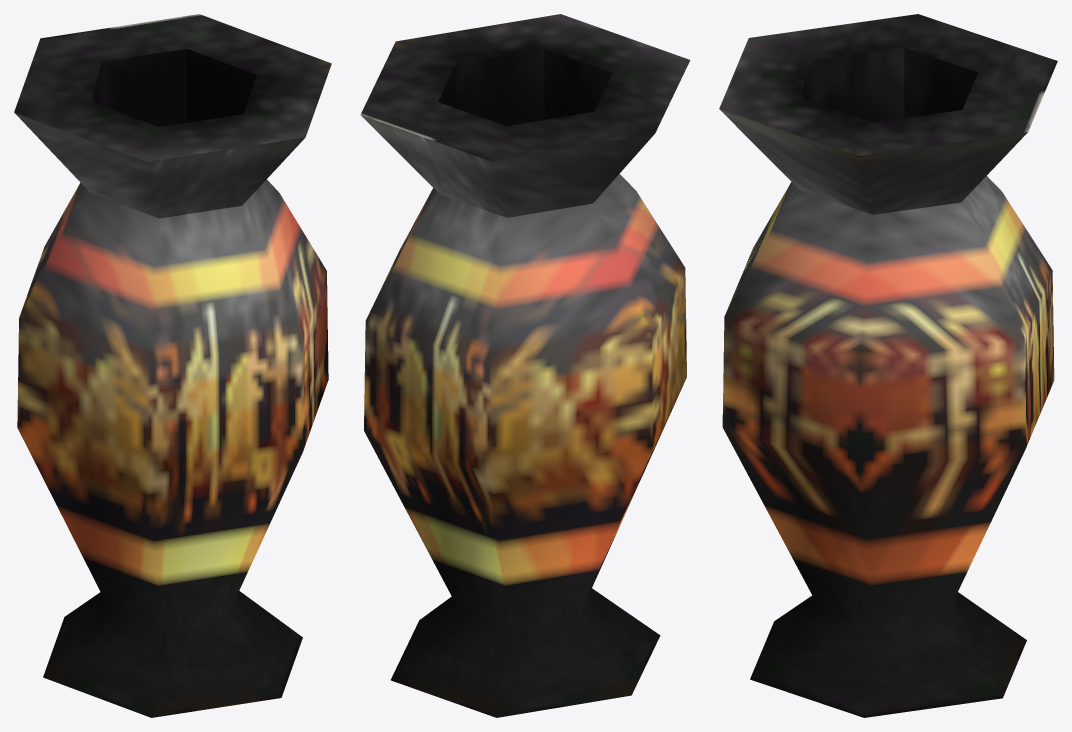
The model's file is amphora_a.dae.
3 renders of one model, left to right at view 1: azimuth 30°, elevation 25°; view 2: azimuth 150°, elevation 25°; view 3: azimuth 270°, elevation 25°, orthographic.
Parts seen in each view (by area): view 1: Jar_tall; view 2: Jar_tall; view 3: Jar_tall.
Part boxes in pixels (x1=…): Jar_tall: x1=14, y1=14, x2=331, y2=717; Jar_tall: x1=360, y1=14, x2=690, y2=717; Jar_tall: x1=719, y1=14, x2=1057, y2=717.
Bounding box in the file's own units: 0.7943 × 1.5 × 0.8004.
